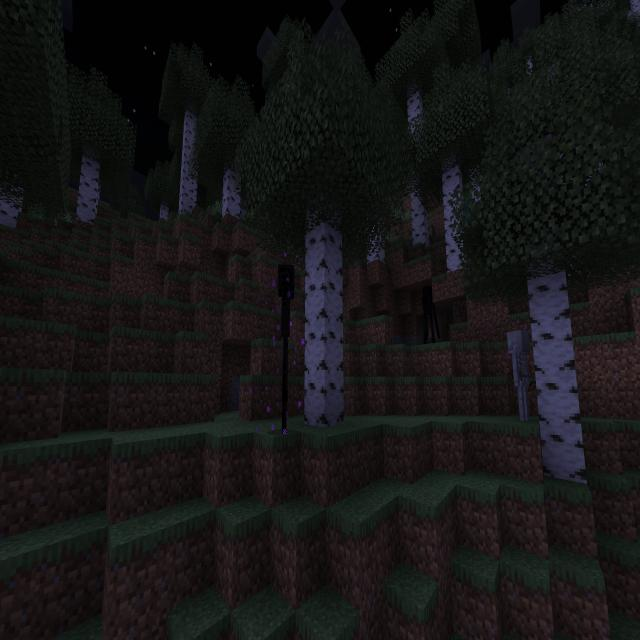Enderman: (276, 259, 296, 436), (420, 281, 442, 349)
